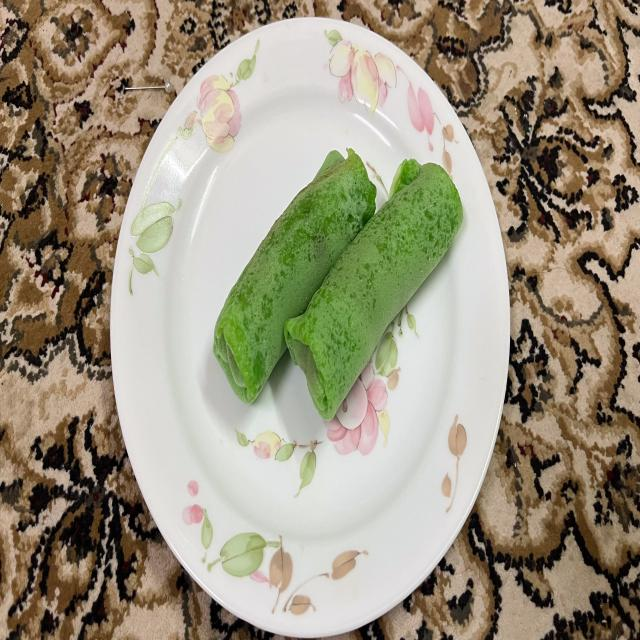Kuih-Ketayap: (212, 149, 462, 422), (212, 151, 375, 402)
